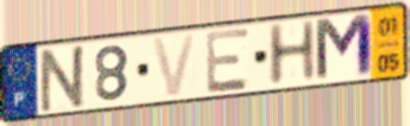8: (93, 43, 132, 104)
E: (204, 25, 252, 96)
H: (265, 18, 319, 90)
M: (312, 11, 377, 85)
N: (38, 42, 90, 115)
V: (149, 32, 200, 100)
